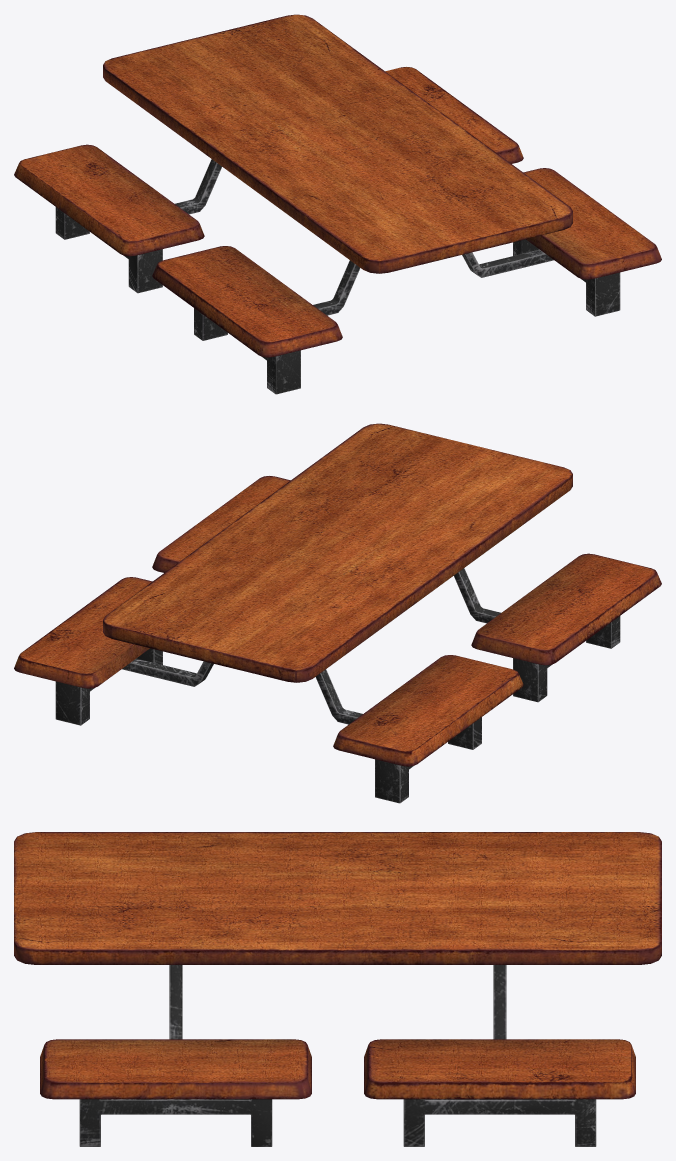
Rendered from comedor.glb.
3 views of the same model, one above another, from view 1: azimuth 30°, elevation 25°; view 2: azimuth 150°, elevation 25°; view 3: azimuth 270°, elevation 25° (orthographic). The views are drawn at different scales.
Parts seen in each view (by area): view 1: Table; view 2: Table; view 3: Table.
Boxes of the visible parts, box(x1,y1,x2,y2) form: Table: box(14, 14, 661, 394); Table: box(14, 423, 661, 803); Table: box(14, 832, 661, 1146).
Bounding box in the file's own units: 4.87 × 1.55 × 5.8.
2 materials, 2 textured.
